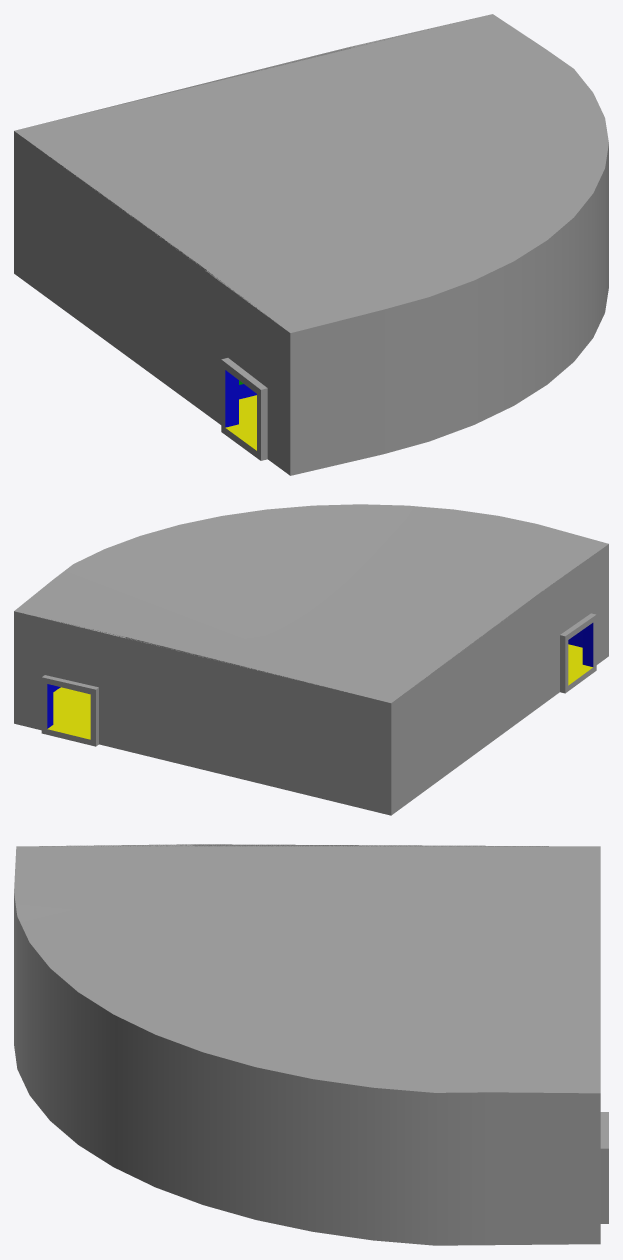
The model's file is Medbay Room.fbx.
3 views of the same model, one above another, from view 1: azimuth 30°, elevation 25°; view 2: azimuth 150°, elevation 25°; view 3: azimuth 270°, elevation 25° (orthographic). The views are drawn at different scales.
Visible parts, largest first — view 1: Room; view 2: Room; view 3: Room.
Part boxes in pixels (x1,y1,x2,y2): Room: [14, 14, 608, 475]; Room: [14, 504, 608, 815]; Room: [14, 844, 608, 1245].
Size of the model in its own units: 0.3557 by 0.1007 by 0.355.
